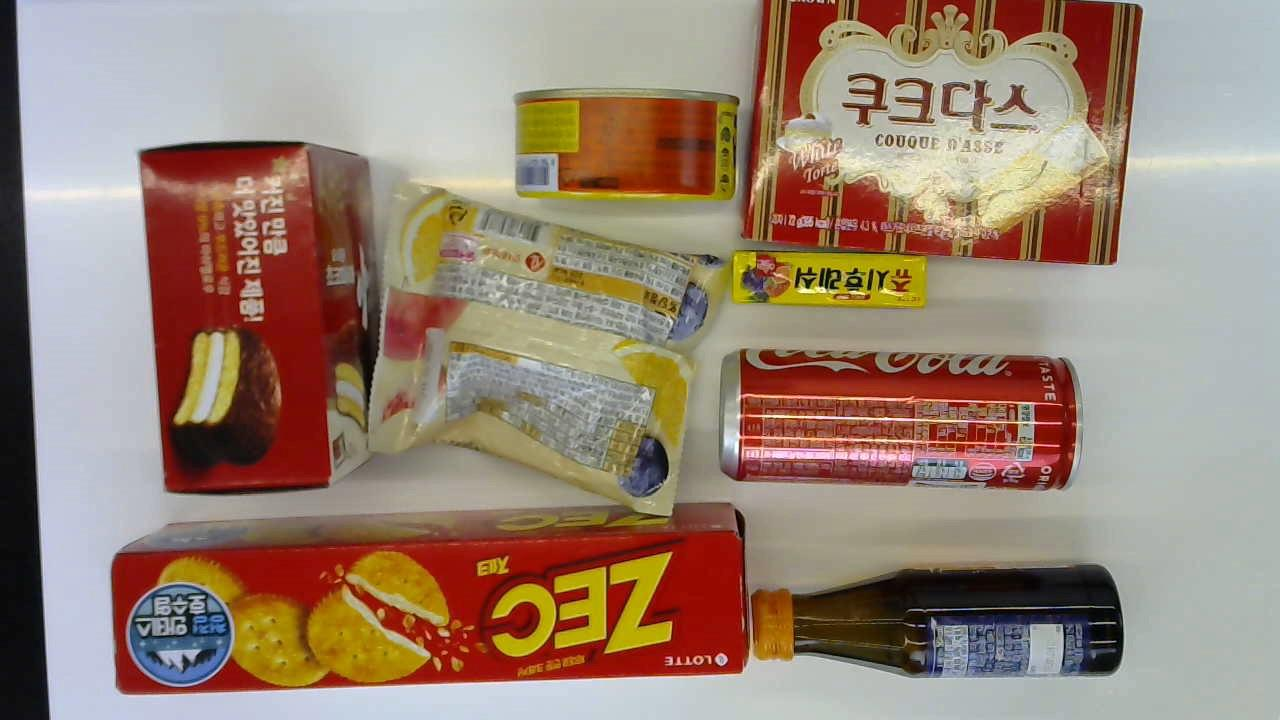chocopie: (138, 137, 382, 493)
coke: (718, 348, 1085, 490)
couque_white: (740, 0, 1143, 264)
gumi_gumi: (364, 176, 730, 516)
juicyfresh: (730, 249, 925, 309)
tuna: (511, 85, 740, 203)
vita500: (752, 568, 1125, 681)
zec: (116, 504, 744, 694)
